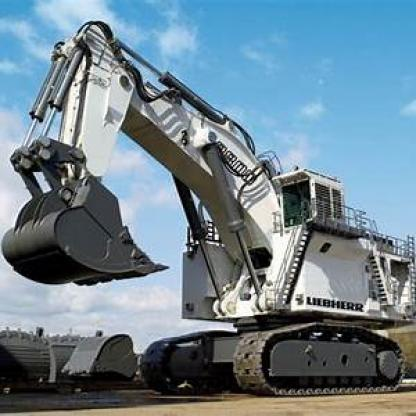excavator: (11, 18, 415, 401)
